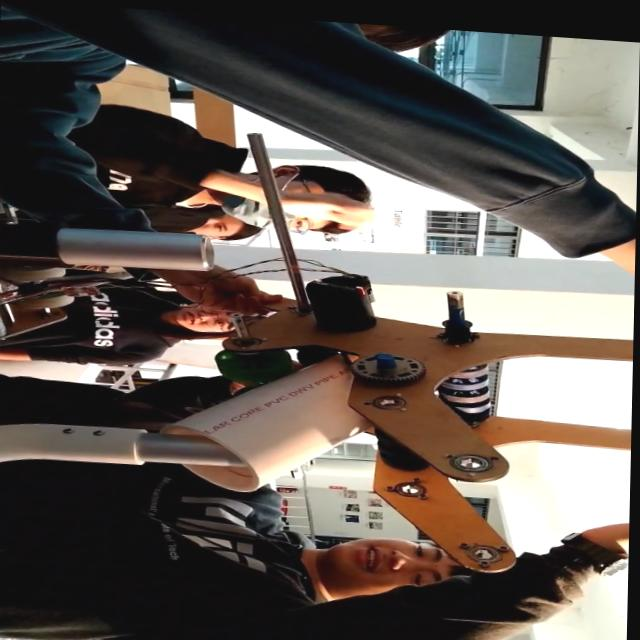CORAL: (151, 346, 412, 506)
